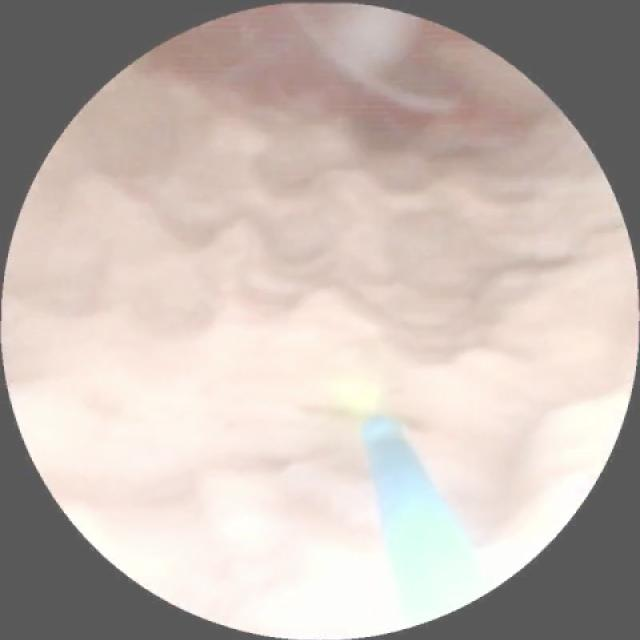fiber: (365, 419, 467, 588)
stone: (14, 72, 626, 632)
